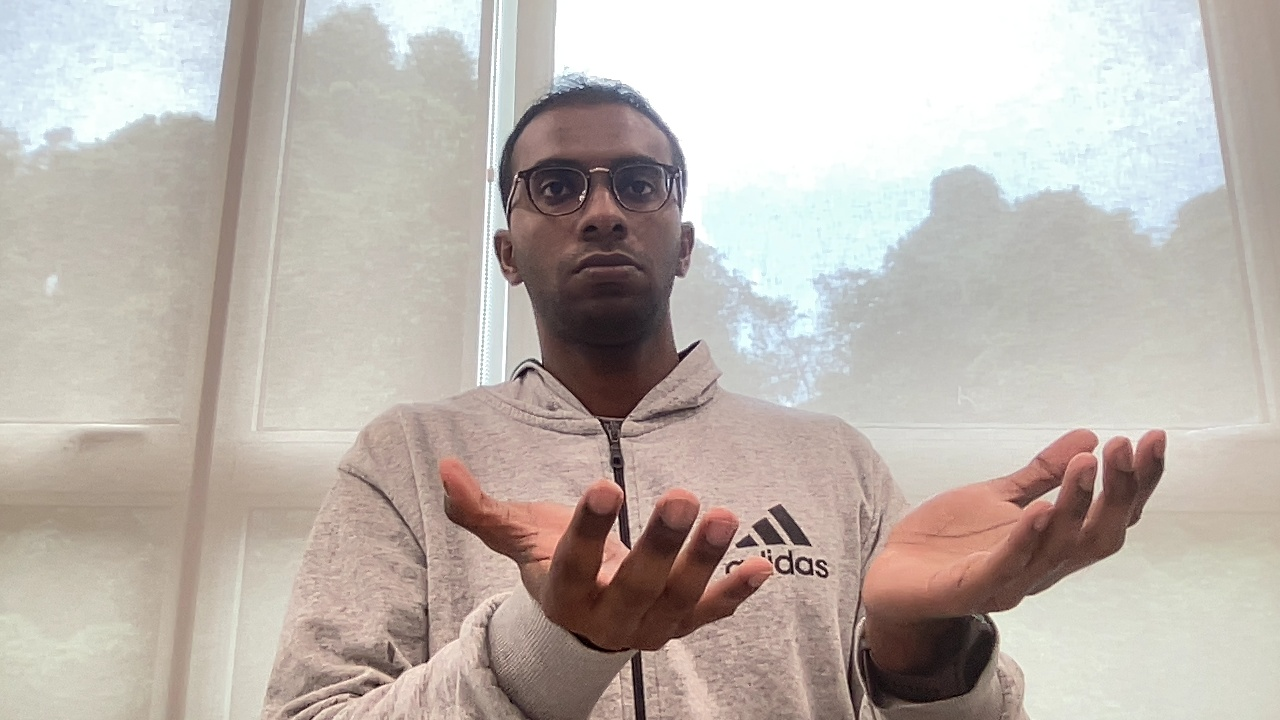give: (431, 424, 1176, 655)
